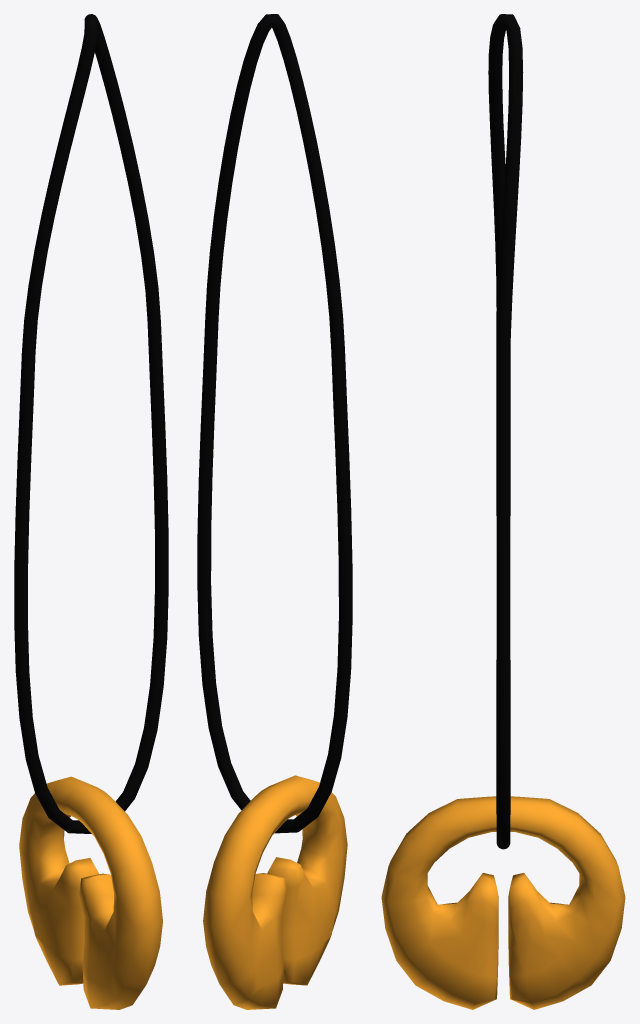
File: LingLingo.glb
3 renders of one model, left to right at view 1: azimuth 30°, elevation 25°; view 2: azimuth 150°, elevation 25°; view 3: azimuth 270°, elevation 25°, orthographic.
Visible parts, largest first — view 1: Charm.001; view 2: Charm.001; view 3: Charm.001.
Part boxes in pixels (x1=…): Charm.001: x1=14, y1=14, x2=168, y2=1009; Charm.001: x1=197, y1=14, x2=352, y2=1009; Charm.001: x1=381, y1=14, x2=625, y2=1009.
Bounding box in the file's own units: 0.5214 × 3.19 × 0.7081.
Materials: 1 (1 with a texture image).
